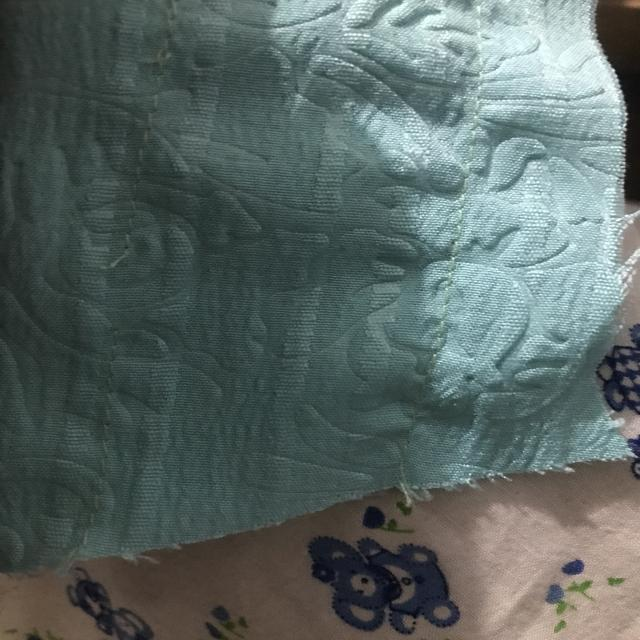broken: (103, 226, 152, 349)
